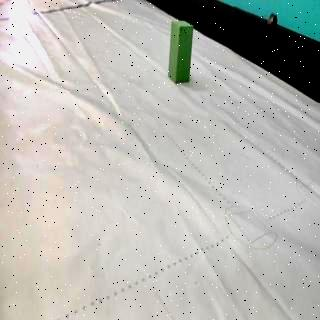greenbox: (167, 18, 194, 85)
